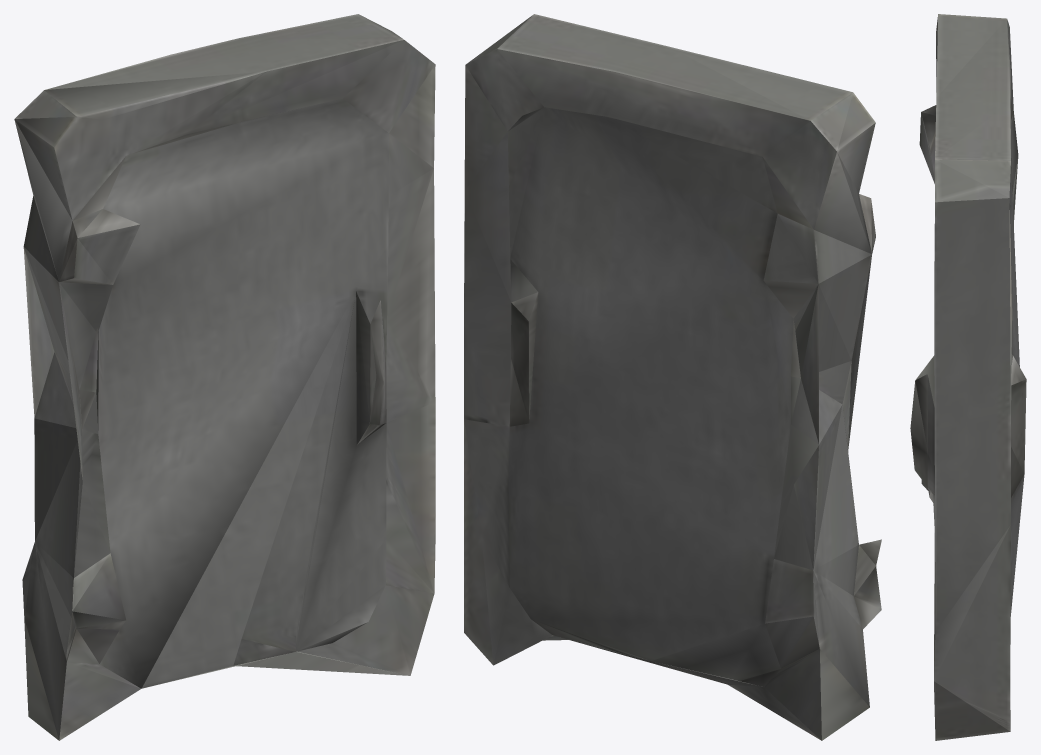
The model's file is imperial_defence_battery__entrance_door_leaf_lod2.glb.
3 views of the same model, side by side, from view 1: azimuth 30°, elevation 25°; view 2: azimuth 150°, elevation 25°; view 3: azimuth 270°, elevation 25° (orthographic). The views are drawn at different scales.
Visible parts, largest first — view 1: mesh_node; view 2: mesh_node; view 3: mesh_node.
Part boxes in pixels (box(x1,y1,x2,y2)): mesh_node: box(14, 14, 435, 740); mesh_node: box(464, 14, 881, 740); mesh_node: box(910, 14, 1026, 740).
Size of the model in its own units: 1.99 by 3.2 by 0.5801.
Materials: 1 (1 with a texture image).
